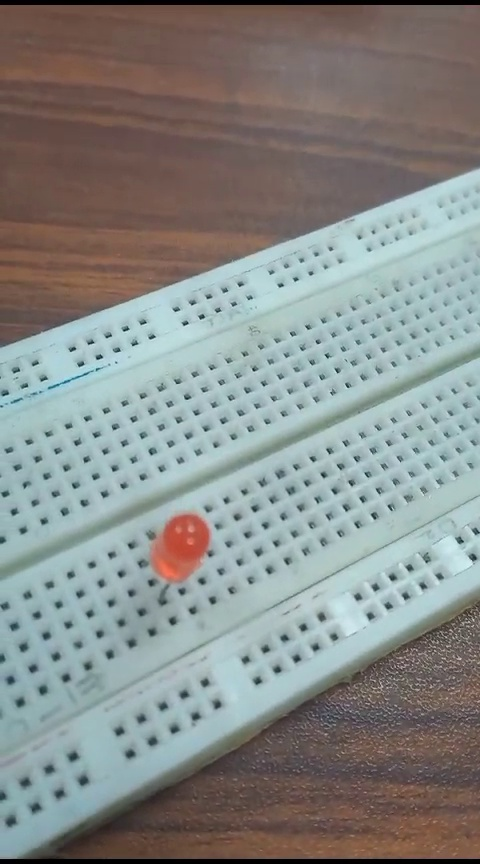LED: (136, 509, 210, 607)
